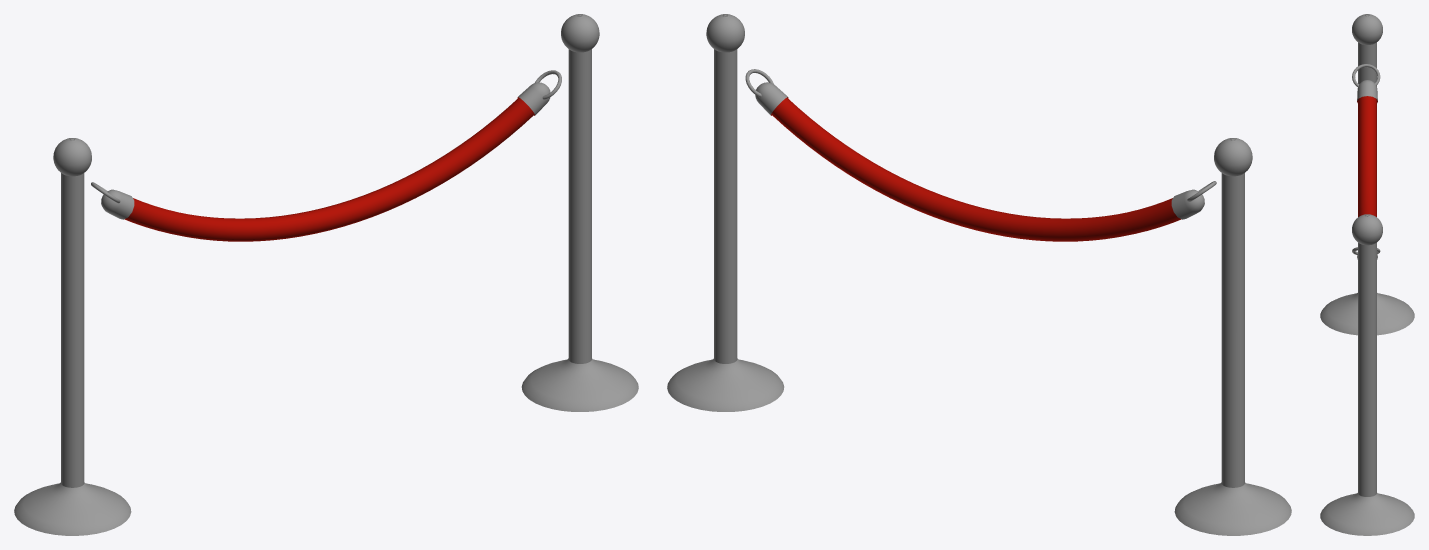
File: pole.fbx
3 views of the same model, side by side, from view 1: azimuth 30°, elevation 25°; view 2: azimuth 150°, elevation 25°; view 3: azimuth 270°, elevation 25° (orthographic). The views are drawn at different scales.
Visible parts, largest first — view 1: Rectangle01, Rectangle02, Capsule01; view 2: Rectangle01, Rectangle02, Capsule01; view 3: Rectangle02, Rectangle01, Capsule01, Torus01.
Part boxes in pixels (x1=…): Rectangle01: x1=14, y1=138, x2=131, y2=535; Rectangle02: x1=521, y1=14, x2=638, y2=411; Capsule01: x1=101, y1=82, x2=550, y2=241; Rectangle01: x1=1174, y1=138, x2=1291, y2=535; Rectangle02: x1=667, y1=14, x2=784, y2=411; Capsule01: x1=755, y1=82, x2=1204, y2=241; Rectangle02: x1=1320, y1=214, x2=1414, y2=535; Rectangle01: x1=1320, y1=14, x2=1414, y2=335; Capsule01: x1=1357, y1=80, x2=1377, y2=259; Torus01: x1=1352, y1=64, x2=1380, y2=87.
Size of what is drawn, in the model's own units: 1800 by 1050 by 299.
